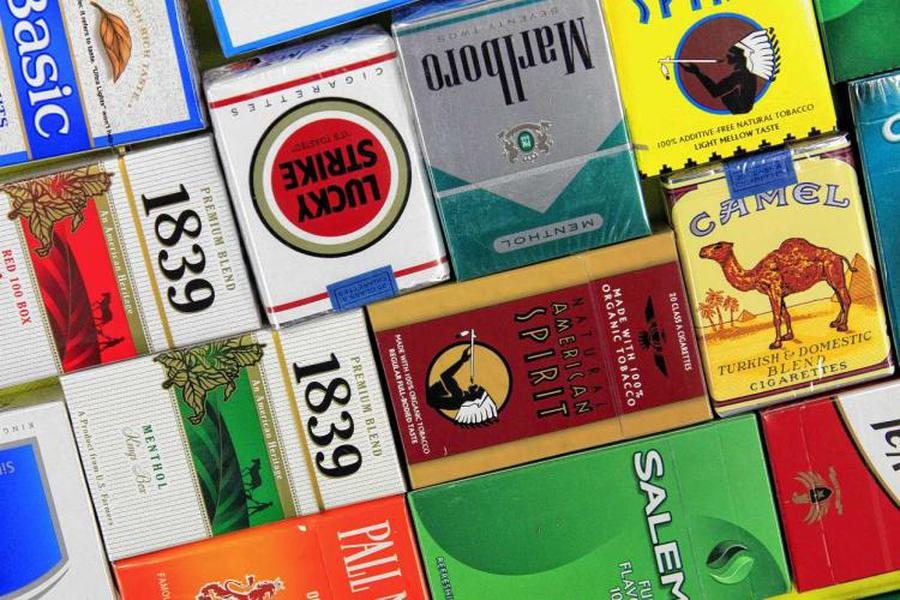lucky_strike_red: (239, 69, 409, 302)
marlboro_mentol: (419, 16, 607, 242)
